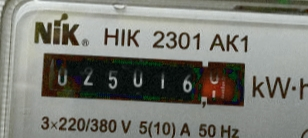0: (130, 65, 145, 89), (54, 65, 68, 88), (206, 65, 219, 85)
1: (155, 66, 167, 91), (207, 88, 216, 99)
2: (80, 63, 94, 87)
5: (105, 68, 117, 89)
6: (178, 70, 193, 96)
screen: (30, 42, 255, 115)
